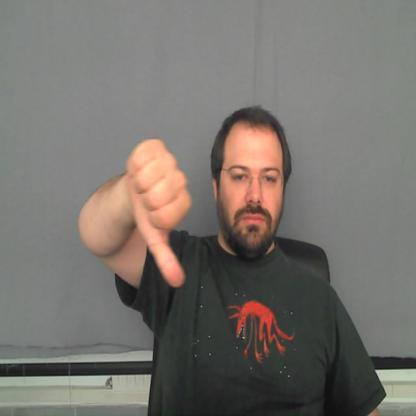thumbs-down: (121, 132, 196, 290)
